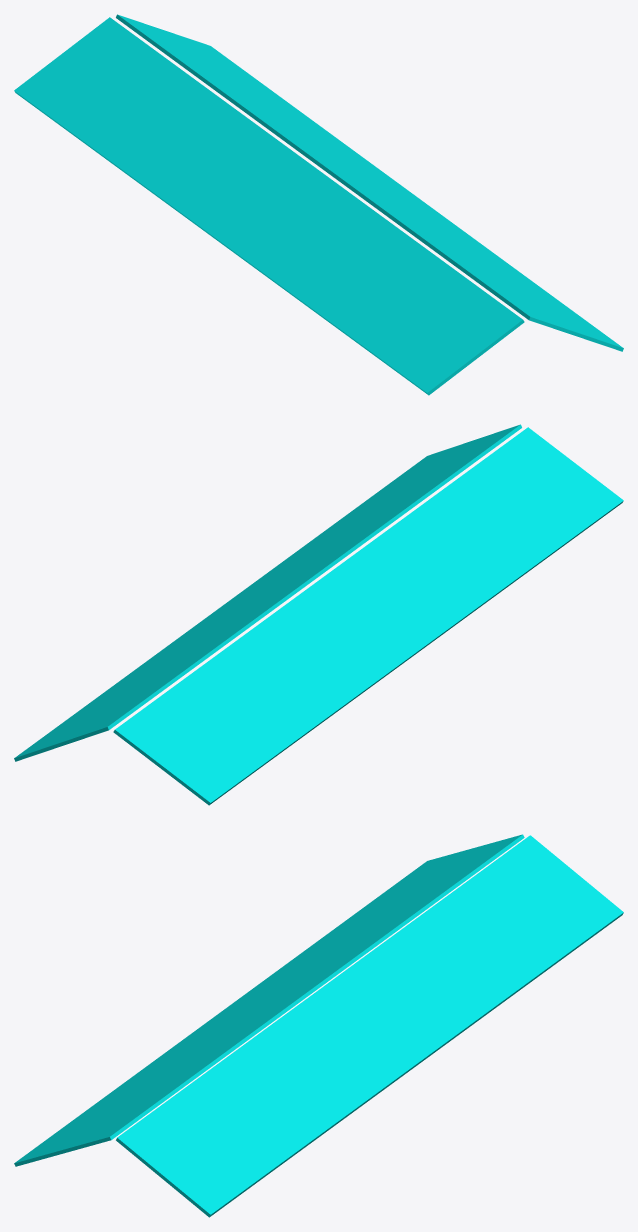
The model's file is smallPintStandGlass.fbx.
The picture shows the model from 3 angles, top to bottom: view 1: azimuth 30°, elevation 25°; view 2: azimuth 150°, elevation 25°; view 3: azimuth 330°, elevation 25°; orthographic projection.
Parts seen in each view (by area): view 1: SICPGlass; view 2: SICPGlass; view 3: SICPGlass.
Boxes of the visible parts, x1,y1,x2,y2 form: SICPGlass: (14, 14, 623, 395); SICPGlass: (14, 424, 623, 805); SICPGlass: (14, 834, 623, 1217).
Bounding box in the file's own units: 272 × 75.84 × 988.
